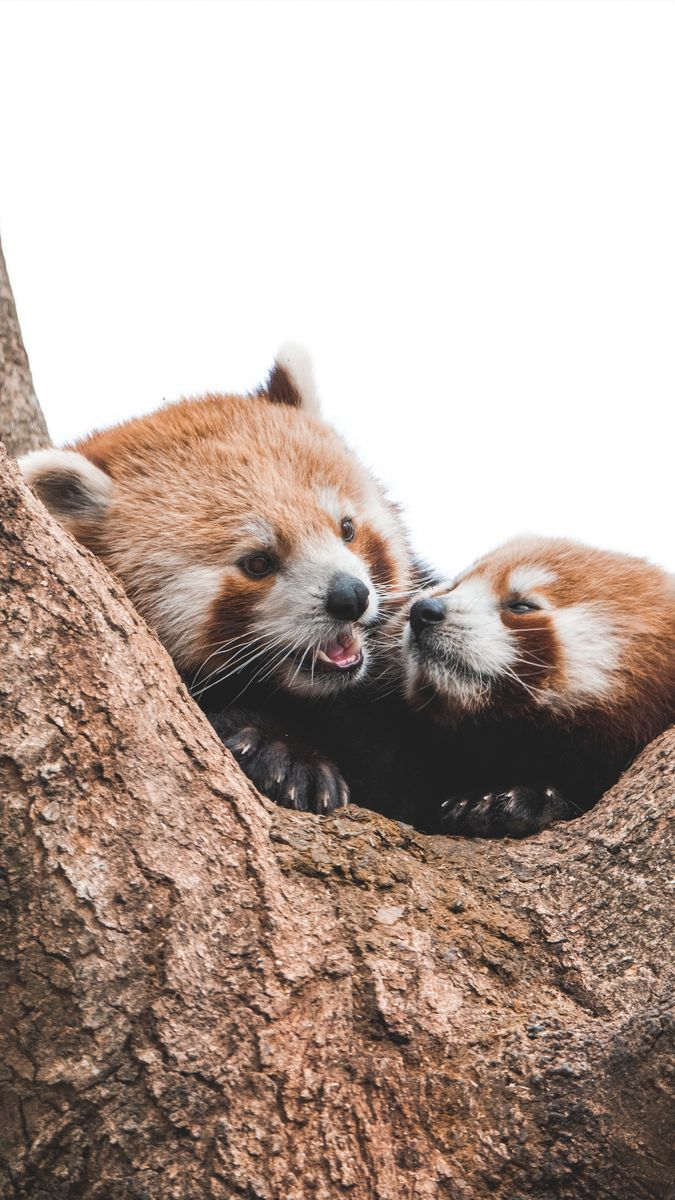red_panda: (11, 339, 428, 823), (386, 528, 675, 842)
